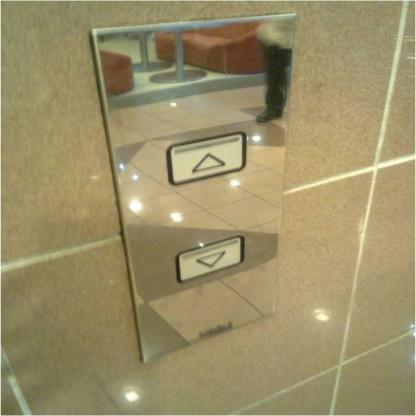down: (172, 233, 245, 283)
up: (163, 131, 247, 185)
